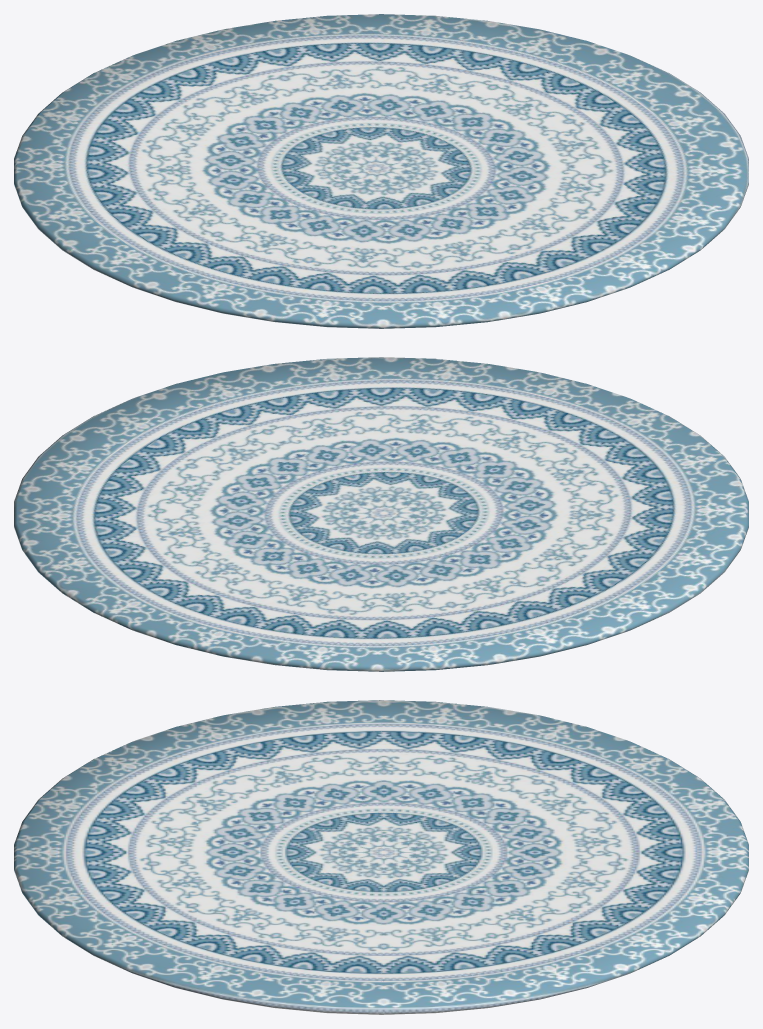
File: carpet.obj
The picture shows the model from 3 angles, top to bottom: view 1: azimuth 30°, elevation 25°; view 2: azimuth 150°, elevation 25°; view 3: azimuth 270°, elevation 25°; orthographic projection.
Parts seen in each view (by area): view 1: DBK_100121; view 2: DBK_100121; view 3: DBK_100121.
Boxes of the visible parts, box(x1,y1,x2,y2) form: DBK_100121: box(14, 14, 748, 328); DBK_100121: box(14, 357, 748, 671); DBK_100121: box(14, 700, 748, 1014).
Size of the model in its own units: 2.54 by 0.0241 by 2.53.
1 material, 1 textured.
